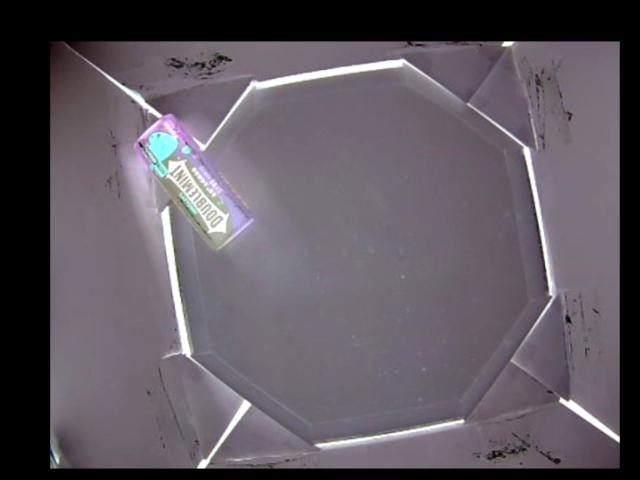Bottle: (132, 116, 253, 252)
